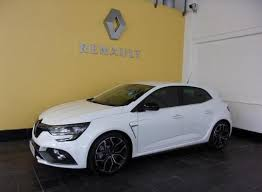car: (29, 82, 232, 174)
